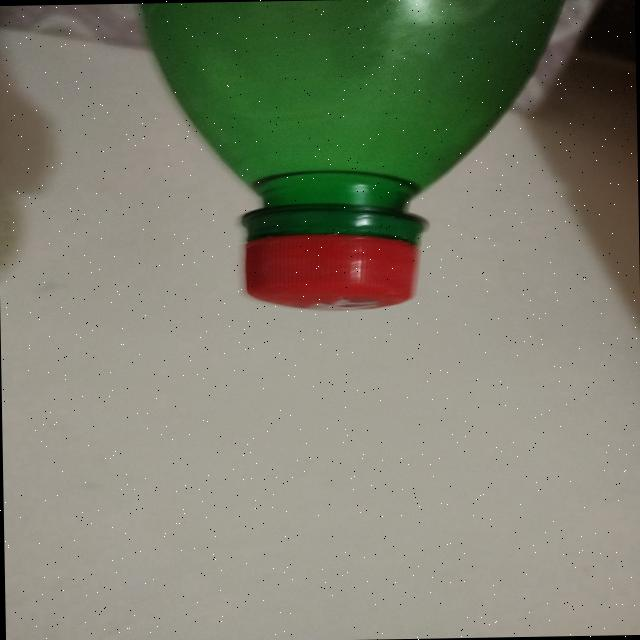cap: (243, 202, 422, 313)
